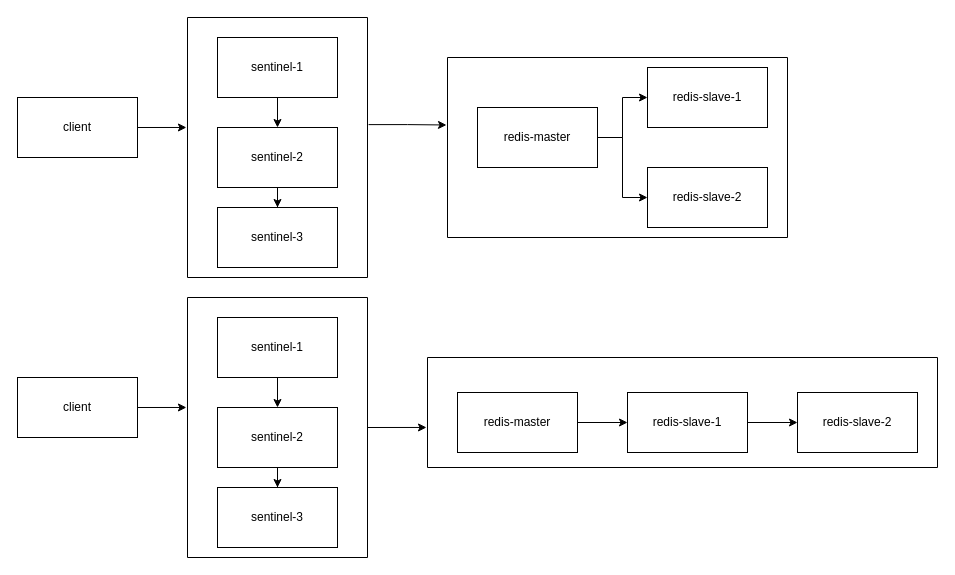
The diagram is 955 pixels wide and 575 high, and some of its shapes have lost their labels. Here are the shapes that lost their labels. From the top down, the box of each, then its label:
(446, 56, 788, 238): 扁平模式集群
(426, 356, 938, 468): 级联模式集群
